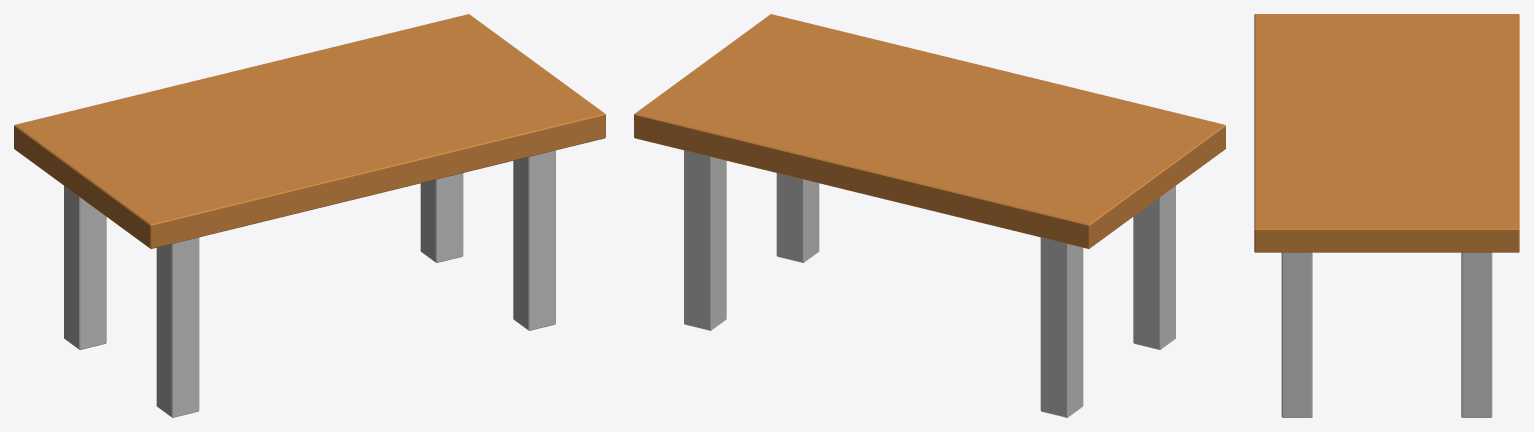
The model's file is Desk.fbx.
The picture shows the model from 3 angles, left to right: view 1: azimuth 30°, elevation 25°; view 2: azimuth 150°, elevation 25°; view 3: azimuth 270°, elevation 25°; orthographic projection. The views are drawn at different scales.
Visible parts, largest first — view 1: Desk; view 2: Desk; view 3: Desk.
Boxes of the visible parts, x1,y1,x2,y2 form: Desk: [14, 14, 605, 417]; Desk: [634, 14, 1225, 417]; Desk: [1254, 14, 1519, 417].
Bounding box in the file's own units: 312 × 139 × 163.
